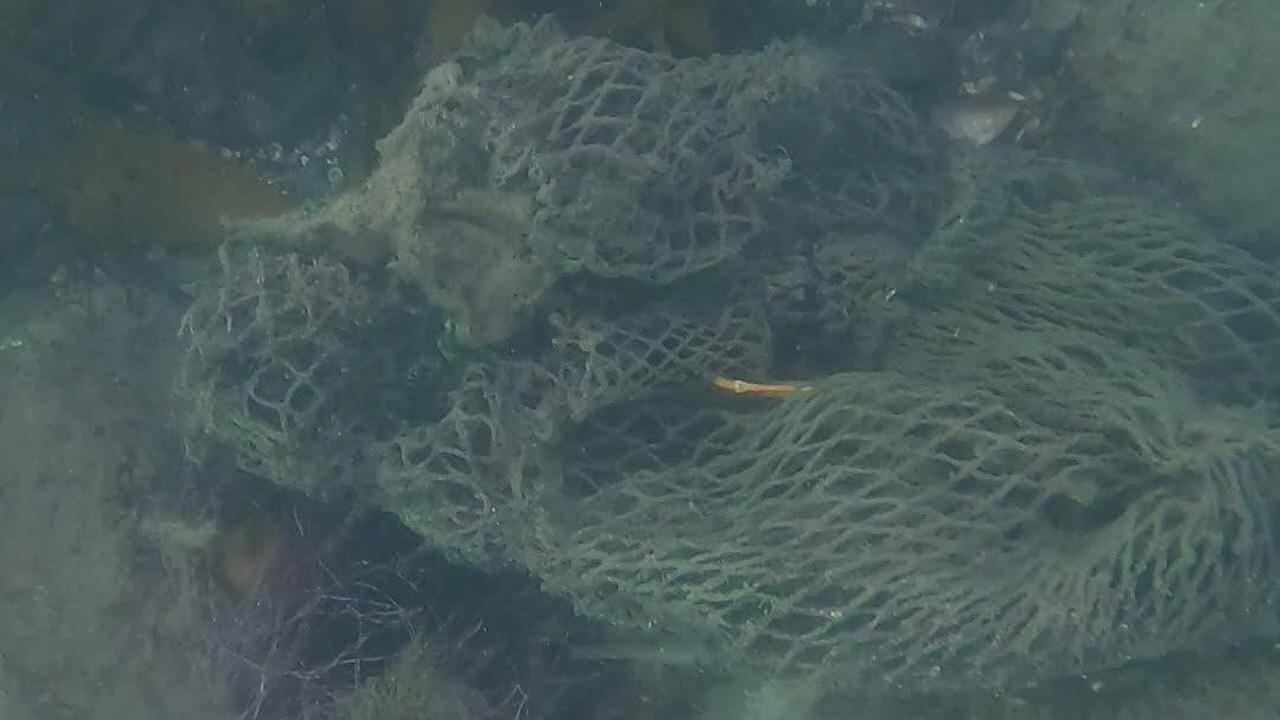fish net: (173, 14, 1280, 690)
